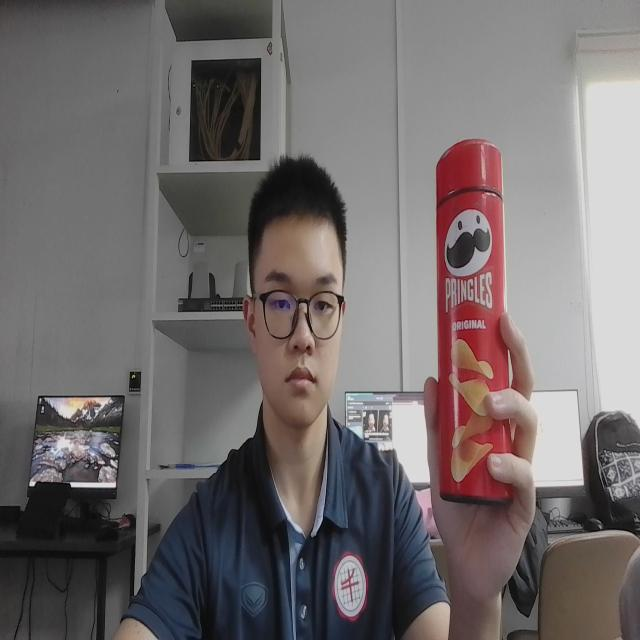water bottle: (433, 133, 518, 514)
